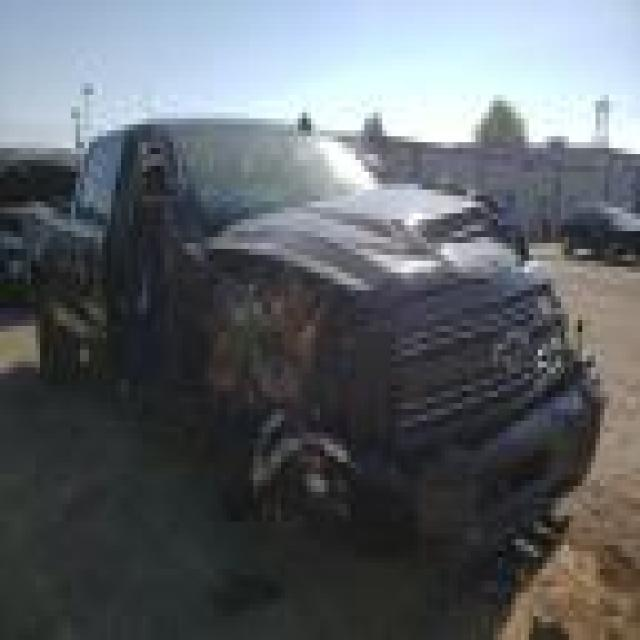severe: (77, 126, 376, 532), (459, 213, 603, 468)
